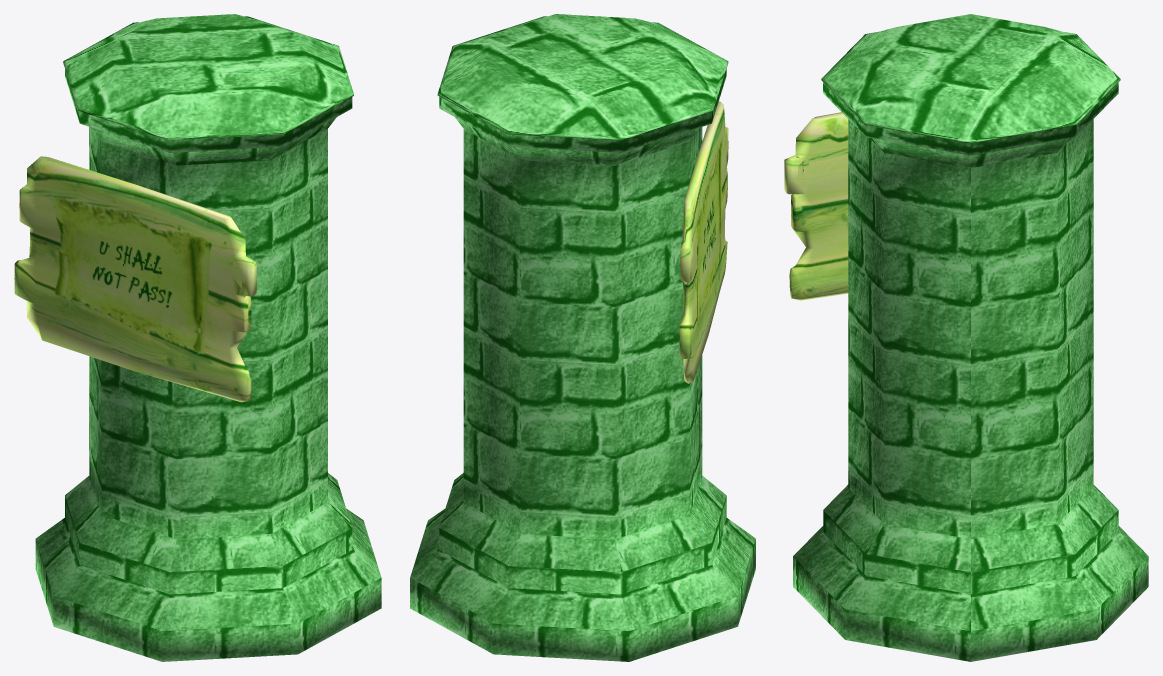
Rendered from Tower_AOE_slow_green.fbx.
The picture shows the model from 3 angles, left to right: view 1: azimuth 30°, elevation 25°; view 2: azimuth 150°, elevation 25°; view 3: azimuth 270°, elevation 25°; orthographic projection.
Visible parts, largest first — view 1: Cylinder; view 2: Cylinder; view 3: Cylinder.
Boxes of the visible parts, x1=… form: Cylinder: x1=14, y1=14, x2=381, y2=661; Cylinder: x1=410, y1=14, x2=755, y2=661; Cylinder: x1=784, y1=14, x2=1148, y2=661.
Bounding box in the file's own units: 2 × 3.28 × 2.05.
1 material, 1 textured.
